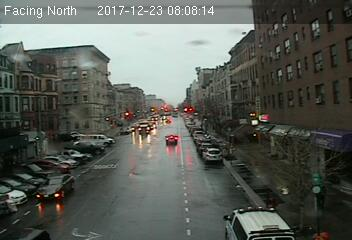car: (35, 173, 76, 201), (203, 148, 223, 163), (163, 134, 180, 143)
police: (223, 206, 302, 240)
